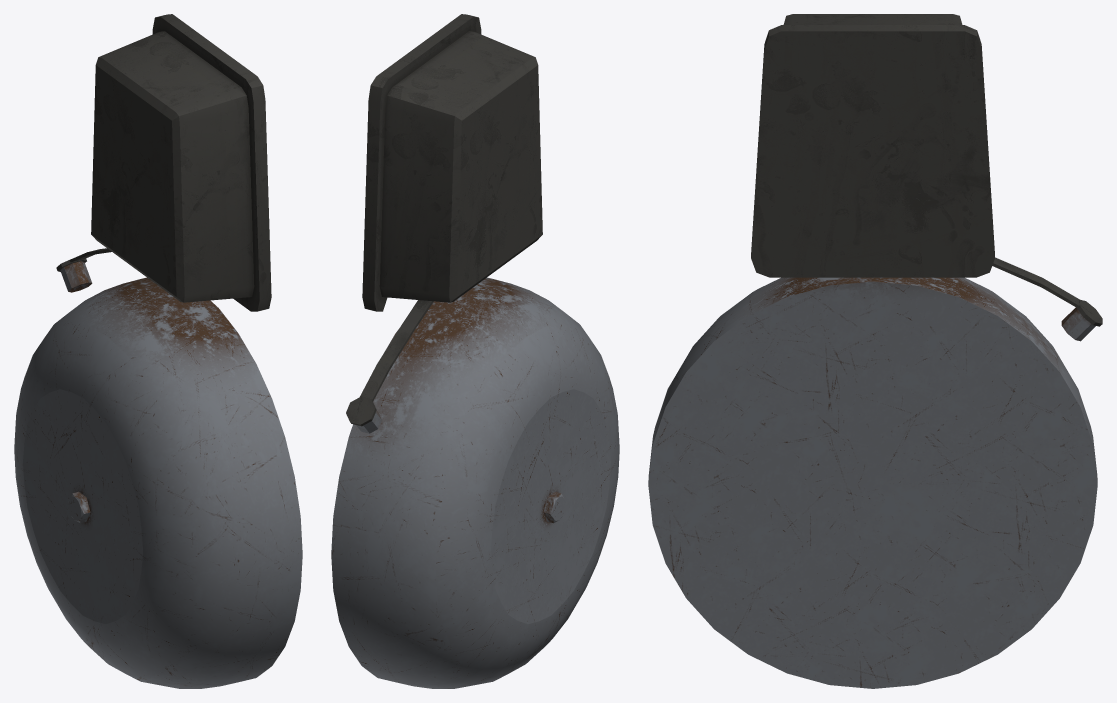
File: SM_Classroom_02.fbx
3 views of the same model, side by side, from view 1: azimuth 30°, elevation 25°; view 2: azimuth 150°, elevation 25°; view 3: azimuth 270°, elevation 25° (orthographic). The views are drawn at different scales.
Visible parts, largest first — view 1: SM_Classroom_02; view 2: SM_Classroom_02; view 3: SM_Classroom_02.
Boxes of the visible parts, <box> form: SM_Classroom_02: <box>14,14,302,688</box>; SM_Classroom_02: <box>331,14,619,688</box>; SM_Classroom_02: <box>648,14,1102,688</box>.
Size of the model in its own units: 6.05 by 15.76 by 25.51.
